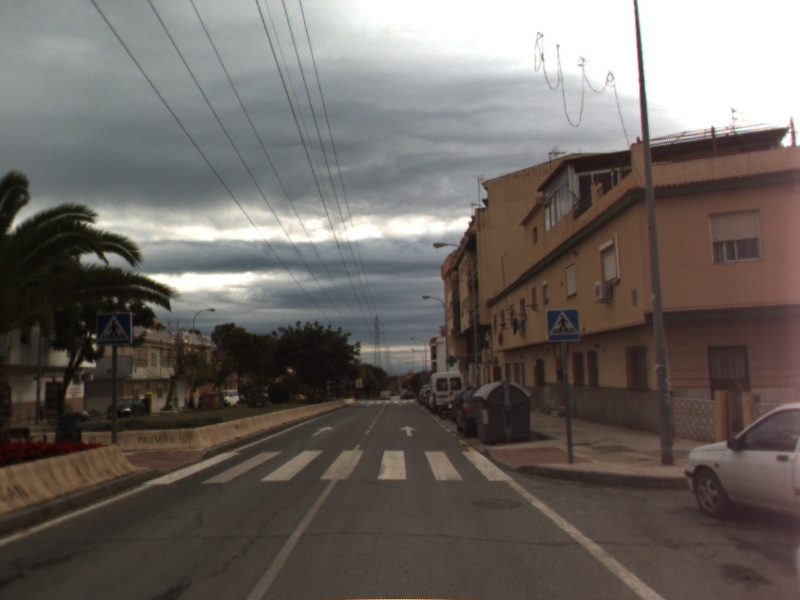STRAIGHT: (308, 424, 336, 439), (397, 423, 420, 438)
